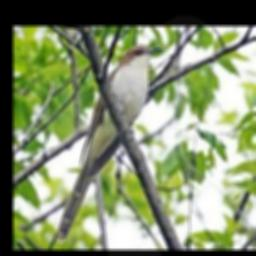Cuckoo: (57, 45, 164, 243)
